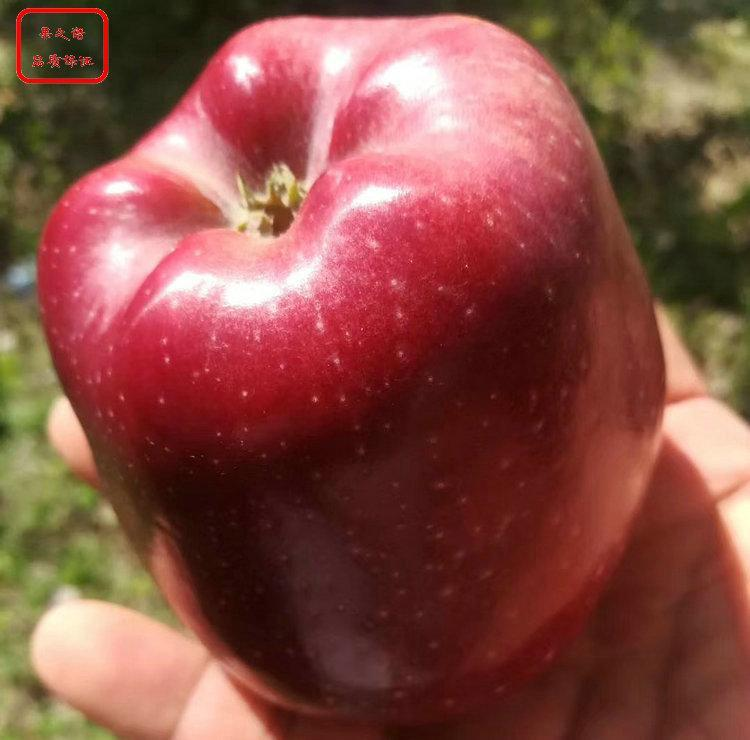apple: (40, 14, 671, 740)
